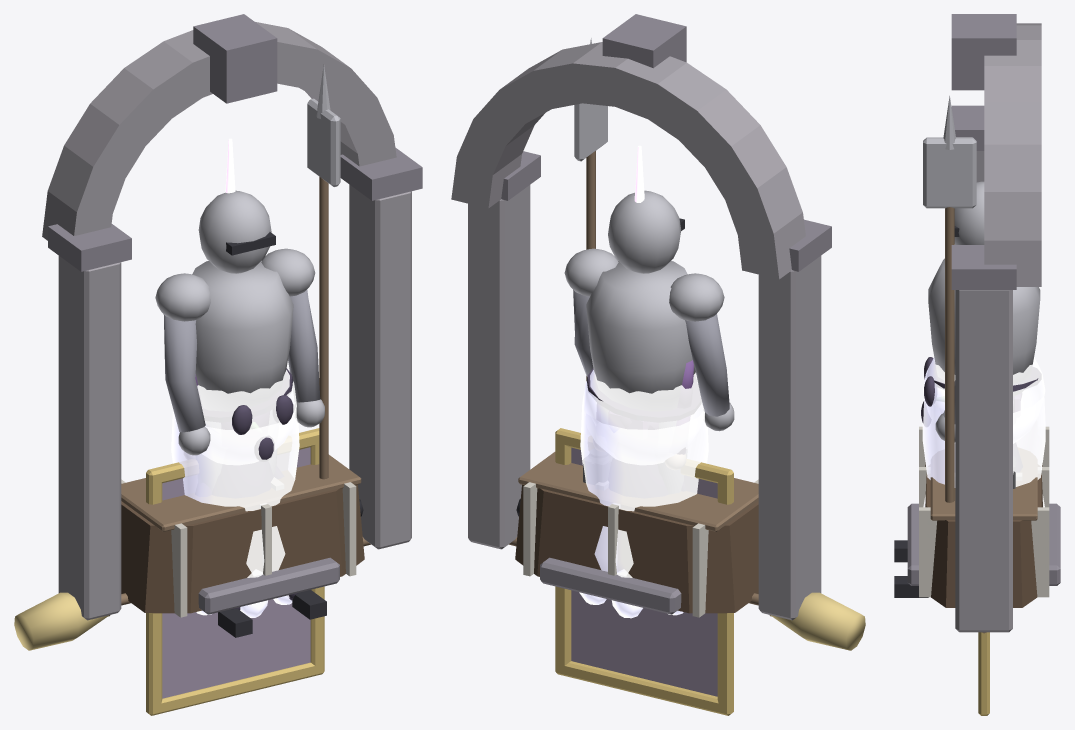
The model's file is haunt-f5a021cf.glb.
The picture shows the model from 3 angles, left to right: view 1: azimuth 30°, elevation 25°; view 2: azimuth 150°, elevation 25°; view 3: azimuth 270°, elevation 25°; orthographic projection.
Visible parts, largest first — view 1: arch_Stone, armor_Armor, coffin_DarkWood, ghost_Ghost, arch_Stone2, portrait_Canvas, portrait_Frame, armor_ArmorDark, coffin_Wood, armor_Stone2, coffin_Cross, Broom_Straw (+3 smaller); view 2: arch_Stone, armor_Armor, ghost_Ghost, coffin_DarkWood, portrait_Canvas, portrait_Frame, arch_Stone2, coffin_Wood, armor_ArmorDark, armor_Stone2, coffin_Cross, Broom_Straw (+1 smaller); view 3: arch_Stone, armor_Armor, arch_Stone2, ghost_Ghost, coffin_DarkWood, coffin_Cross, armor_Wood, armor_Stone2, coffin_Wood, portrait_Frame, witch_Visor, ghost_GhostEyes.
Boxes of the visible parts, x1,y1,x2,y2 form: arch_Stone: (42, 22, 411, 620); armor_Armor: (155, 64, 340, 455); coffin_DarkWood: (121, 484, 364, 613); ghost_Ghost: (171, 370, 299, 617); arch_Stone2: (48, 14, 422, 271); portrait_Canvas: (162, 447, 310, 698); portrait_Frame: (146, 428, 324, 715); armor_ArmorDark: (163, 289, 320, 484); coffin_Wood: (121, 454, 361, 531); armor_Stone2: (198, 557, 339, 614); coffin_Cross: (121, 479, 356, 617); Broom_Straw: (14, 592, 109, 650); arch_Stone: (451, 42, 821, 620); armor_Armor: (564, 38, 734, 431); ghost_Ghost: (579, 370, 708, 618); coffin_DarkWood: (515, 484, 758, 613); portrait_Canvas: (571, 447, 717, 696); portrait_Frame: (555, 428, 733, 715); arch_Stone2: (501, 14, 831, 271); coffin_Wood: (518, 452, 758, 531); armor_ArmorDark: (573, 290, 729, 493); armor_Stone2: (540, 557, 681, 614); coffin_Cross: (523, 479, 758, 617); Broom_Straw: (770, 592, 865, 650); arch_Stone: (955, 23, 1041, 632); armor_Armor: (923, 95, 1040, 442); arch_Stone2: (951, 14, 1016, 289); ghost_Ghost: (922, 357, 1045, 507); coffin_DarkWood: (925, 462, 1042, 607); coffin_Cross: (919, 426, 1049, 597); armor_Wood: (945, 207, 954, 502); armor_Stone2: (907, 503, 1060, 585); coffin_Wood: (930, 448, 1037, 520); portrait_Frame: (978, 632, 989, 715); witch_Visor: (894, 540, 928, 597); ghost_GhostEyes: (921, 357, 935, 425).
Size of the model in its own units: 2.27 by 3.74 by 0.87.
